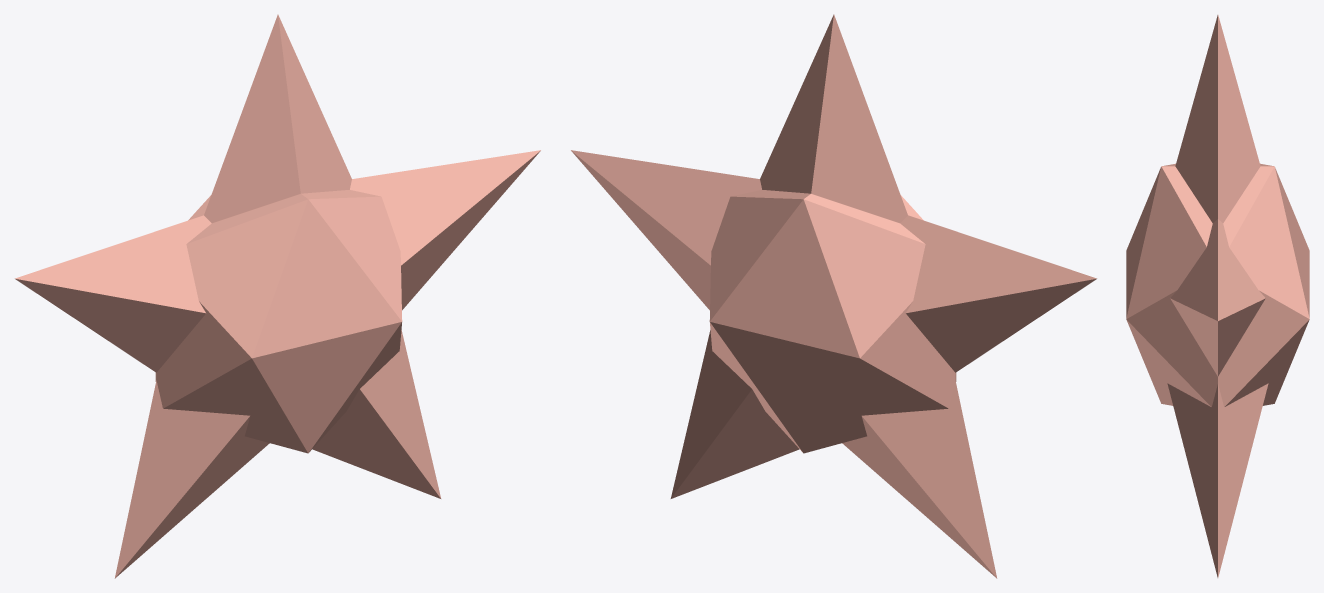
The model's file is star.glb.
The picture shows the model from 3 angles, left to right: view 1: azimuth 30°, elevation 25°; view 2: azimuth 150°, elevation 25°; view 3: azimuth 270°, elevation 25°; orthographic projection. The views are drawn at different scales.
Visible parts, largest first — view 1: Star; view 2: Star; view 3: Star.
Part boxes in pixels (bbox=[...]): Star: bbox=[15, 14, 540, 578]; Star: bbox=[571, 14, 1096, 578]; Star: bbox=[1126, 15, 1309, 577].
Bounding box in the file's own units: 0.6273 × 0.5972 × 0.2025.
